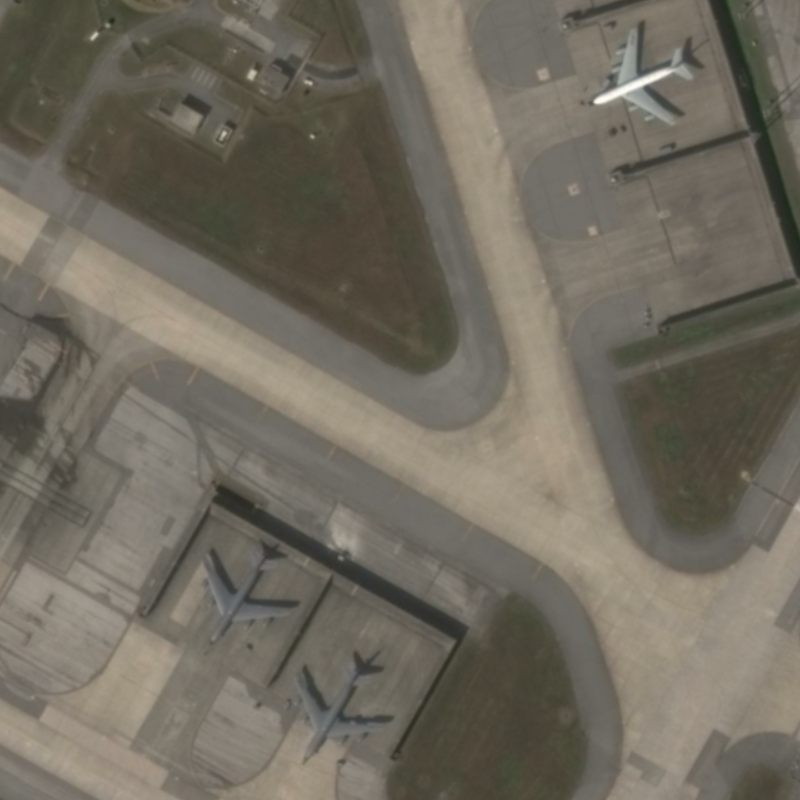A11: (585, 18, 704, 129)
A14: (287, 651, 399, 771), (191, 531, 303, 650)
